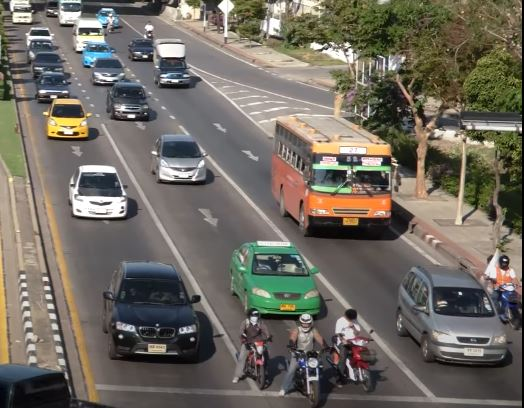Bus: (270, 114, 393, 234), (74, 18, 105, 52)
Car: (393, 263, 509, 366), (100, 260, 201, 359), (227, 240, 325, 321), (68, 163, 129, 221), (151, 133, 207, 186), (44, 97, 90, 141), (105, 80, 149, 121), (36, 72, 70, 102), (91, 57, 124, 84), (81, 42, 111, 68), (31, 52, 63, 74), (127, 38, 152, 62), (28, 39, 55, 61), (25, 26, 54, 45)
Motorcycle: (285, 311, 332, 402), (328, 308, 379, 391), (234, 308, 275, 391), (484, 252, 523, 332), (144, 21, 155, 41), (106, 13, 114, 32)
Truck: (152, 39, 191, 86), (58, 1, 81, 25), (13, 2, 32, 25)
